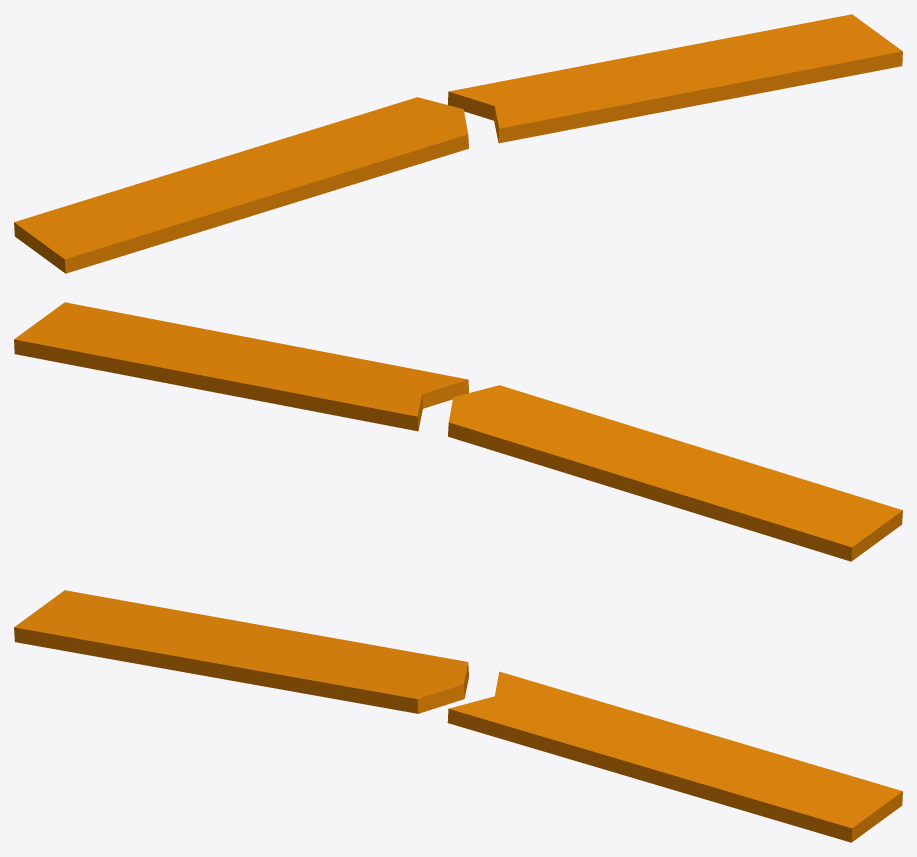
File: Broken_plank_5.fbx
3 views of the same model, one above another, from view 1: azimuth 30°, elevation 25°; view 2: azimuth 150°, elevation 25°; view 3: azimuth 330°, elevation 25° (orthographic).
Visible parts, largest first — view 1: Cube.057, Cube.052; view 2: Cube.057, Cube.052; view 3: Cube.052, Cube.057.
Boxes of the visible parts, bbox=[...] form: Cube.057: bbox=[14, 97, 468, 273]; Cube.052: bbox=[447, 14, 902, 143]; Cube.057: bbox=[448, 385, 902, 561]; Cube.052: bbox=[14, 302, 469, 431]; Cube.052: bbox=[447, 671, 902, 842]; Cube.057: bbox=[14, 590, 468, 713].
Bounding box in the file's own units: 124 × 6.04 × 13.07.
